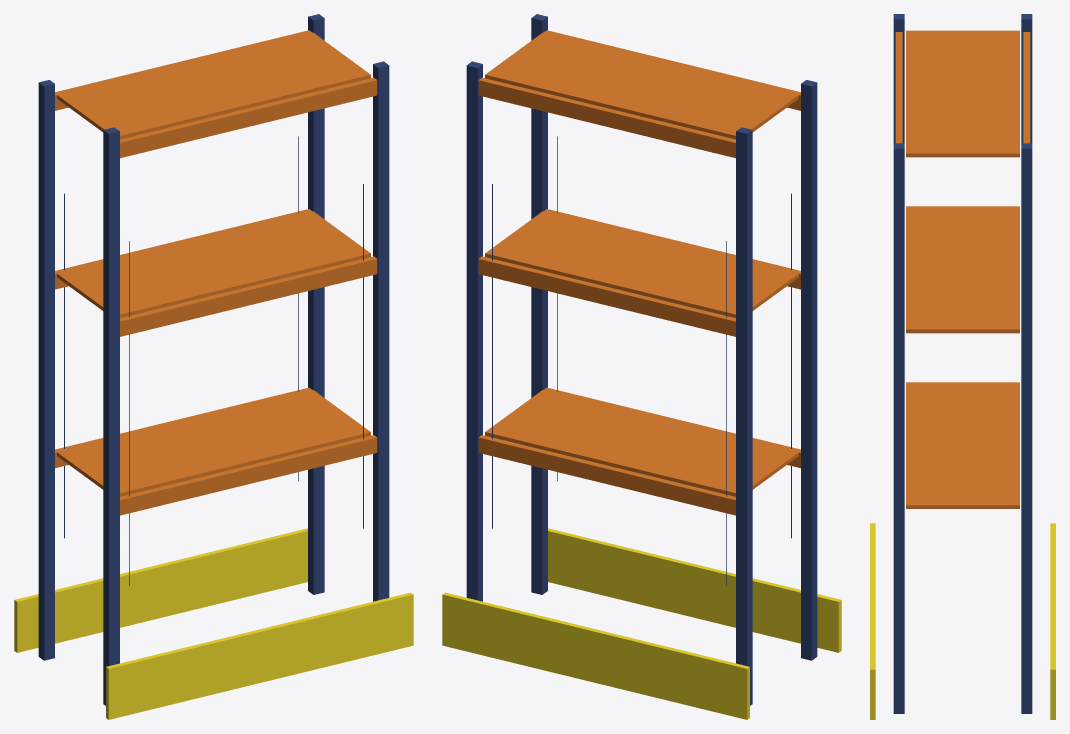
The model's file is shelf-beam-heavy-3level.glb.
3 views of the same model, side by side, from view 1: azimuth 30°, elevation 25°; view 2: azimuth 150°, elevation 25°; view 3: azimuth 270°, elevation 25° (orthographic).
Parts seen in each view (by area): view 1: part_77, part_52, part_29, part_6, part_78, part_2, part_0, part_1, part_3, part_50, part_4, part_27 (+3 smaller); view 2: part_78, part_52, part_29, part_6, part_77, part_0, part_2, part_3, part_1, part_51, part_5, part_28 (+3 smaller); view 3: part_29, part_52, part_6, part_1, part_3, part_77, part_78, part_50, part_51, part_0, part_2.
Boxes of the visible parts, x1,y1,x2,y2 form: part_77: (106,592,413,719); part_52: (57,32,370,139); part_29: (57,211,370,317); part_6: (57,390,370,496); part_78: (14,528,307,652); part_2: (38,80,54,660); part_0: (103,127,119,705); part_1: (373,61,389,601); part_3: (308,14,324,594); part_50: (120,77,377,158); part_4: (120,435,377,515); part_27: (120,256,377,336); part_78: (442,592,749,719); part_52: (485,32,798,139); part_29: (485,211,798,317); part_6: (485,390,798,496); part_77: (548,528,841,652); part_0: (801,80,817,660); part_2: (736,127,752,705); part_3: (466,61,482,601); part_1: (531,14,547,594); part_51: (478,77,735,158); part_5: (478,435,735,515); part_28: (478,256,735,336); part_29: (906,206,1019,333); part_52: (906,30,1019,157); part_6: (906,382,1019,508); part_1: (893,143,904,713); part_3: (1021,143,1032,713); part_77: (870,523,875,719); part_78: (1050,523,1055,719); part_50: (895,32,902,143); part_51: (1023,32,1030,143); part_0: (893,14,904,143); part_2: (1021,14,1032,143).
Bounding box in the file's own units: 2500 × 4500 × 1340.
